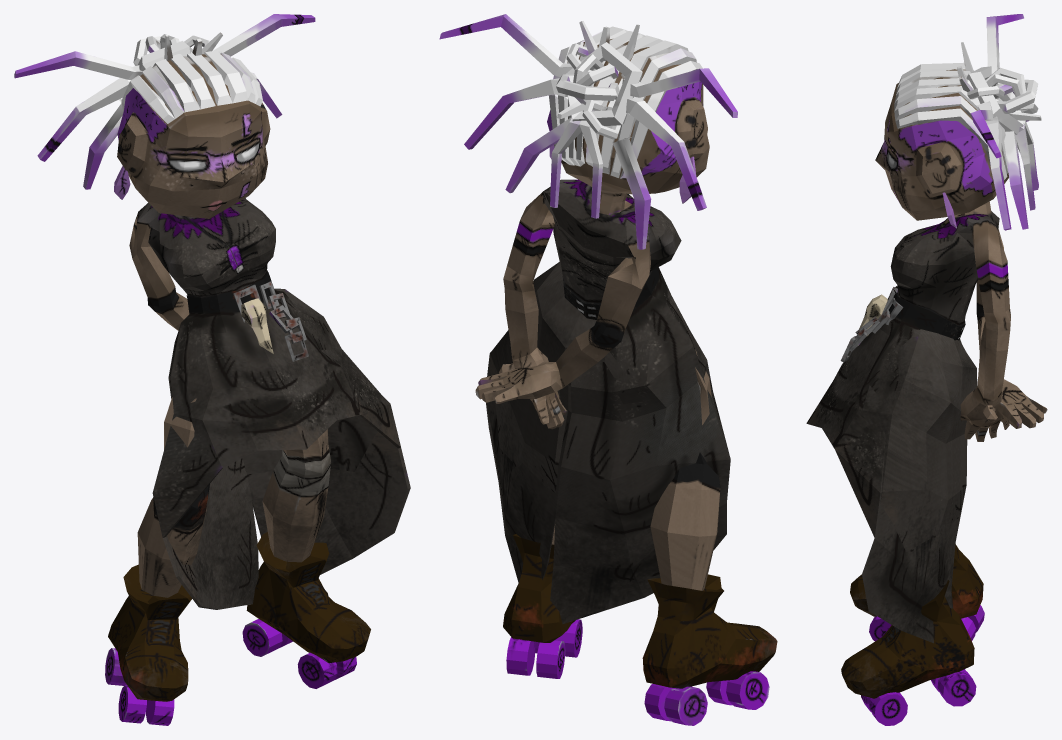
Rendered from bruja_000036.obj.
3 views of the same model, side by side, from view 1: azimuth 30°, elevation 25°; view 2: azimuth 150°, elevation 25°; view 3: azimuth 270°, elevation 25° (orthographic). The views are drawn at different scales.
Parts seen in each view (by area): view 1: Bruja_Plane.001; view 2: Bruja_Plane.001; view 3: Bruja_Plane.001.
Boxes of the visible parts, x1=… form: Bruja_Plane.001: x1=14, y1=14, x2=410, y2=725; Bruja_Plane.001: x1=439, y1=14, x2=777, y2=725; Bruja_Plane.001: x1=806, y1=14, x2=1047, y2=725.
Bounding box in the file's own units: 8.11 × 16.05 × 5.62.
